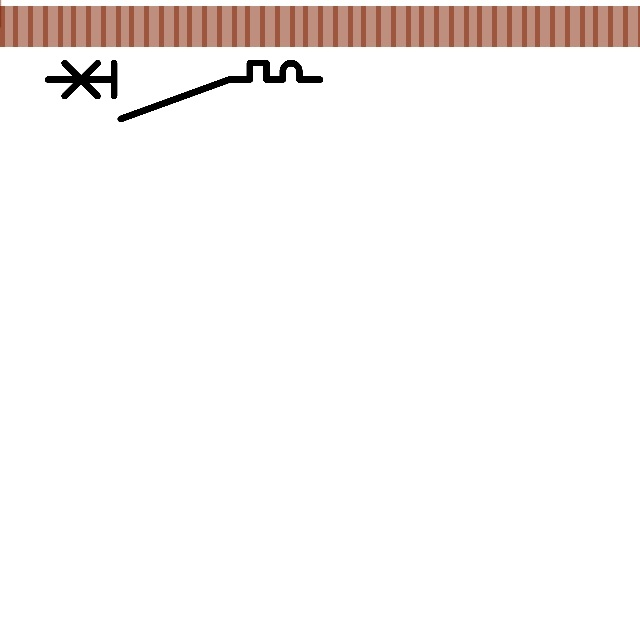interruptor_termomagnetico: (41, 56, 327, 126)
